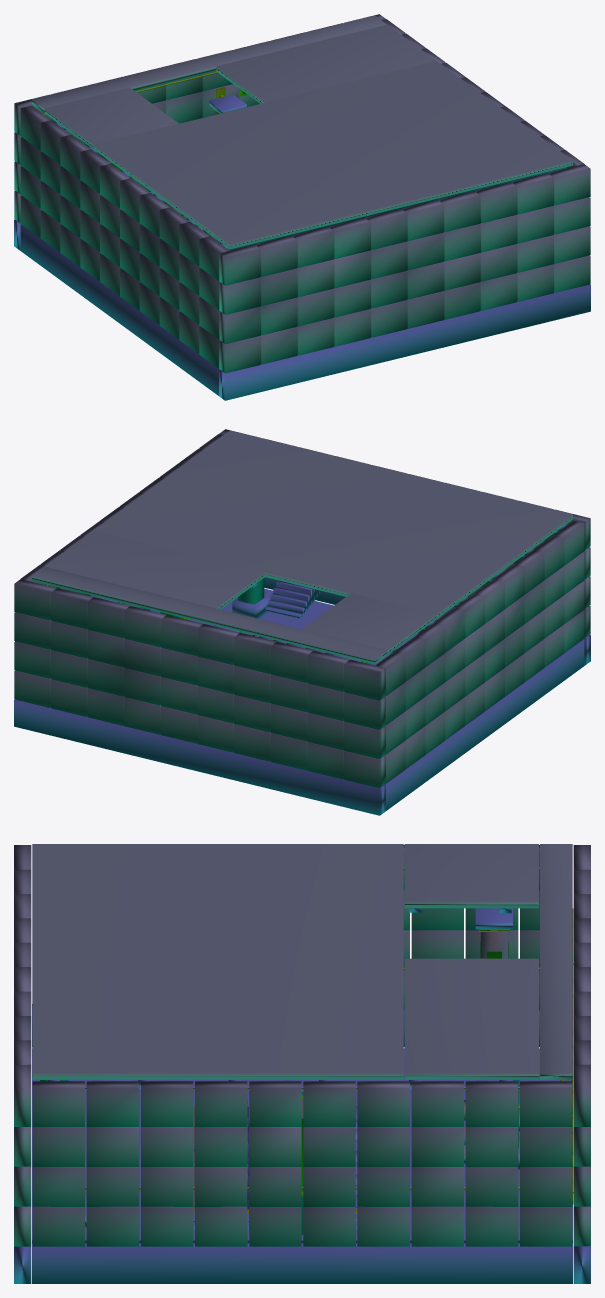
Rendered from engine_hall.glb.
3 views of the same model, one above another, from view 1: azimuth 30°, elevation 25°; view 2: azimuth 150°, elevation 25°; view 3: azimuth 270°, elevation 25° (orthographic). The views are drawn at different scales.
Visible parts, largest first — view 1: engine_hall; view 2: engine_hall; view 3: engine_hall.
Part boxes in pixels (x1,y1,x2,y2): engine_hall: (14,14,590,400); engine_hall: (14,429,590,815); engine_hall: (14,844,590,1283).
Size of what is drawn, in the model's own units: 25.57 by 10.26 by 25.57.
